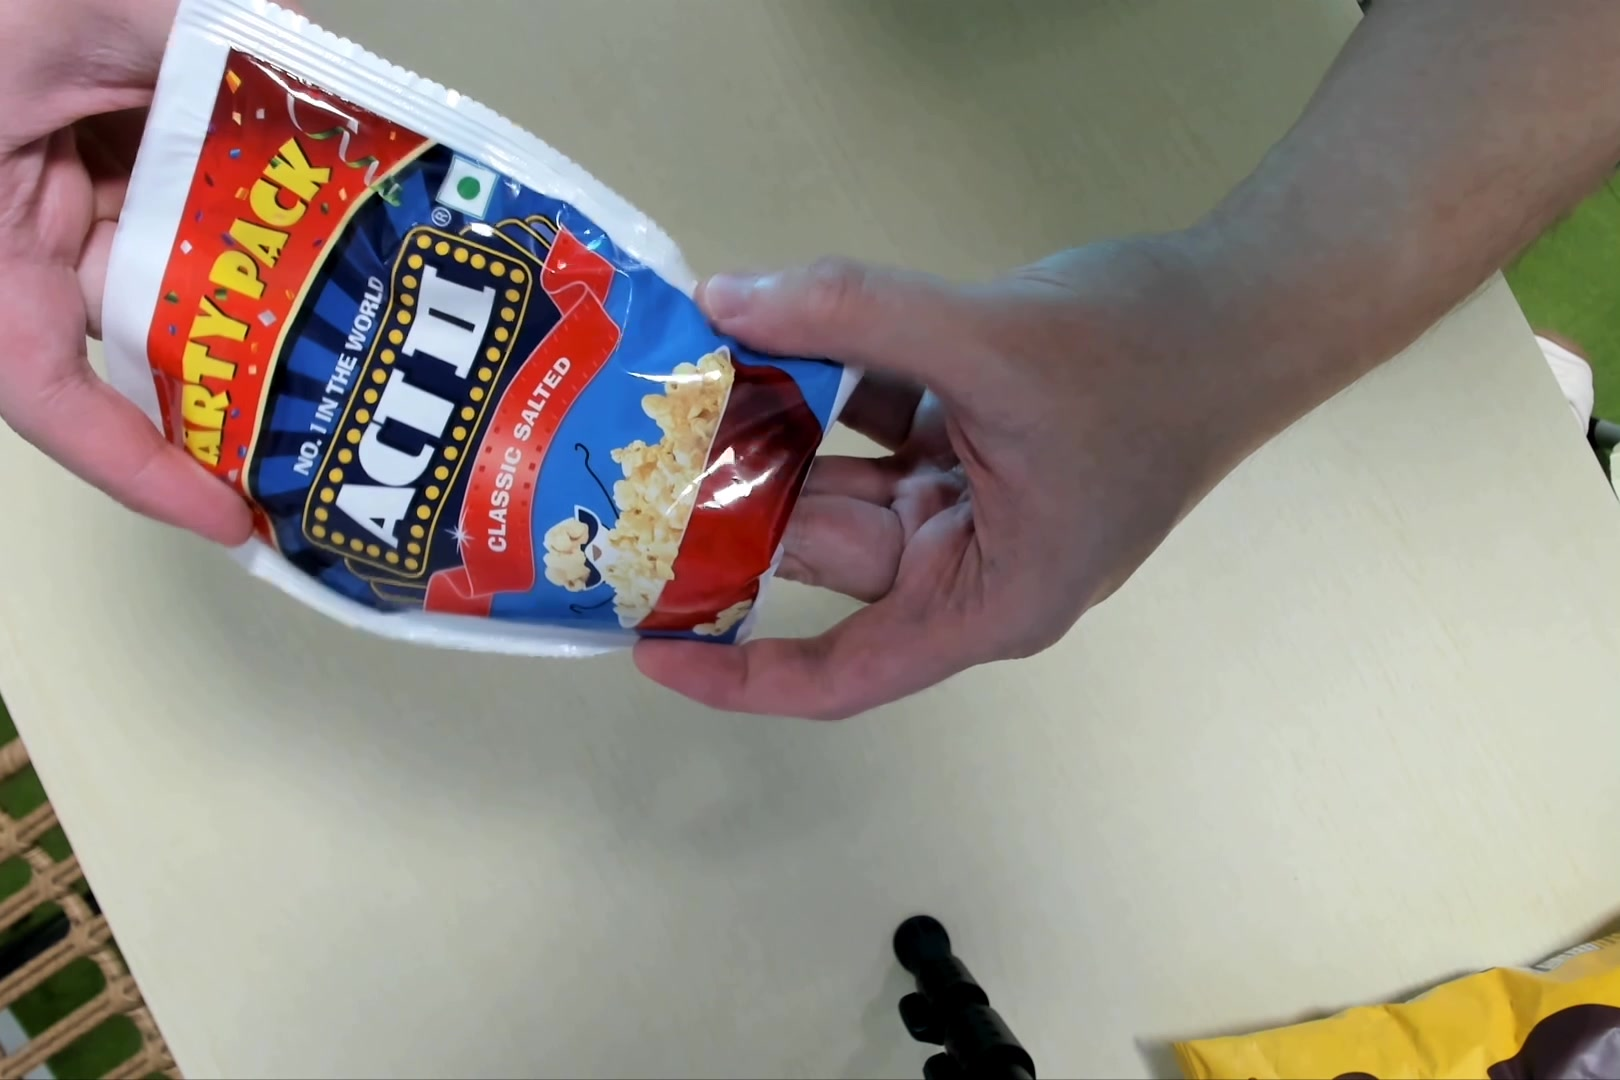PotatoChipsKeropok_100-199g_NonHalal_NonHealthy: (90, 8, 852, 663)
